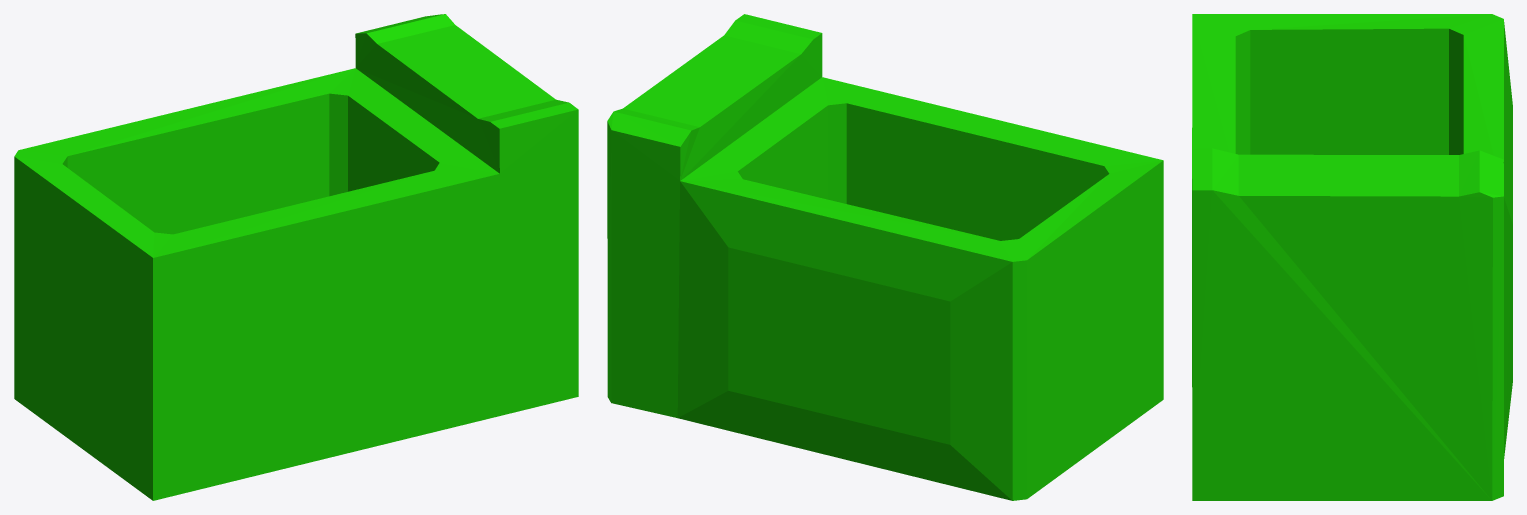
The model's file is SM_MicStove_01_Collider.fbx.
3 renders of one model, left to right at view 1: azimuth 30°, elevation 25°; view 2: azimuth 150°, elevation 25°; view 3: azimuth 270°, elevation 25°, orthographic. The views are drawn at different scales.
Parts seen in each view (by area): view 1: SM_MicStove_01_Collider; view 2: SM_MicStove_01_Collider; view 3: SM_MicStove_01_Collider.
Part boxes in pixels (box(x1,y1,x2,y2)): SM_MicStove_01_Collider: box(14, 14, 578, 500); SM_MicStove_01_Collider: box(607, 14, 1163, 500); SM_MicStove_01_Collider: box(1192, 14, 1512, 500).
Size of the model in its own units: 66.91 by 47.85 by 40.4.
